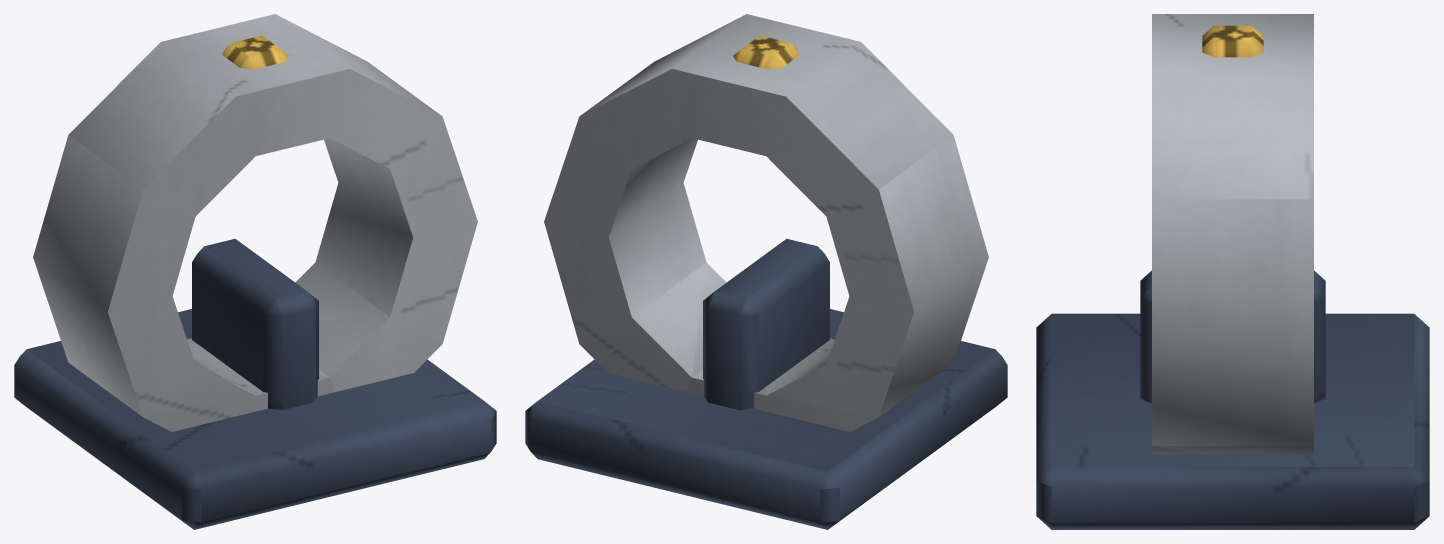
Rendered from cable_clamp.glb.
3 views of the same model, side by side, from view 1: azimuth 30°, elevation 25°; view 2: azimuth 150°, elevation 25°; view 3: azimuth 270°, elevation 25° (orthographic). The views are drawn at different scales.
Visible parts, largest first — view 1: DL016_CableClamp_titanium, DL016_CableClamp_graphite_navy, DL016_CableClamp_amber_accent; view 2: DL016_CableClamp_titanium, DL016_CableClamp_graphite_navy, DL016_CableClamp_amber_accent; view 3: DL016_CableClamp_titanium, DL016_CableClamp_graphite_navy, DL016_CableClamp_amber_accent.
Part boxes in pixels (x1=…): DL016_CableClamp_titanium: x1=33, y1=14, x2=477, y2=431; DL016_CableClamp_graphite_navy: x1=14, y1=238, x2=496, y2=529; DL016_CableClamp_amber_accent: x1=222, y1=35, x2=288, y2=69; DL016_CableClamp_titanium: x1=544, y1=14, x2=988, y2=431; DL016_CableClamp_graphite_navy: x1=525, y1=238, x2=1007, y2=529; DL016_CableClamp_amber_accent: x1=733, y1=35, x2=799, y2=69; DL016_CableClamp_titanium: x1=1152, y1=14, x2=1313, y2=454; DL016_CableClamp_graphite_navy: x1=1036, y1=270, x2=1429, y2=529; DL016_CableClamp_amber_accent: x1=1202, y1=25, x2=1263, y2=57.
Size of the model in its own units: 0.4 by 0.4 by 0.34.
3 materials, 3 textured.
